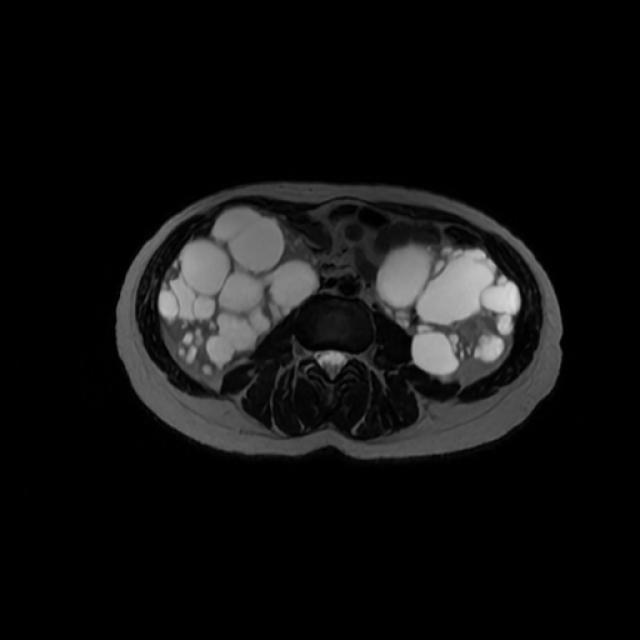sag: (163, 208, 318, 372)
sol: (379, 245, 520, 377)
